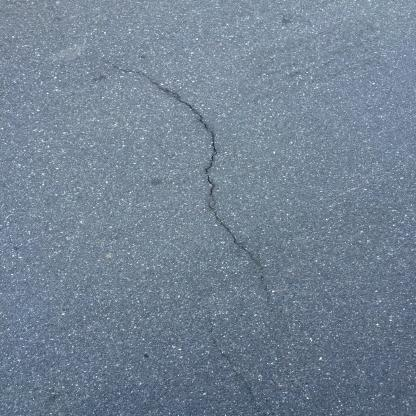Cracks: (106, 62, 265, 276)
